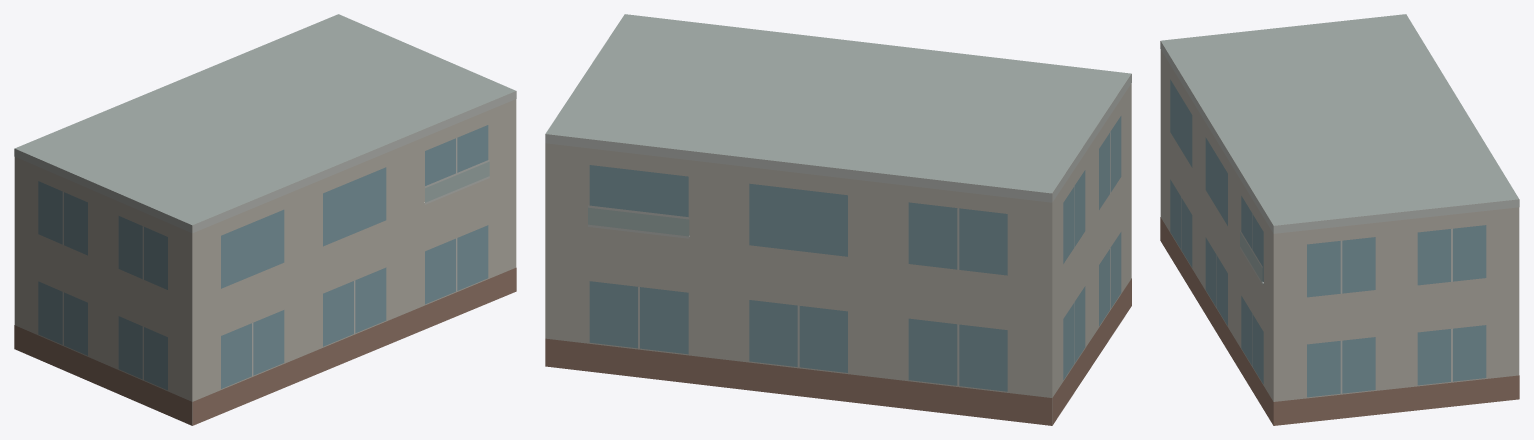
File: survey-upis-32721796.glb
3 views of the same model, side by side, from view 1: azimuth 30°, elevation 25°; view 2: azimuth 150°, elevation 25°; view 3: azimuth 270°, elevation 25° (orthographic). The views are drawn at different scales.
Parts seen in each view (by area): view 1: survey-upis-32721796.tmp; view 2: survey-upis-32721796.tmp; view 3: survey-upis-32721796.tmp.
Boxes of the visible parts, bbox=[...] form: survey-upis-32721796.tmp: bbox=[14, 14, 516, 425]; survey-upis-32721796.tmp: bbox=[545, 14, 1131, 425]; survey-upis-32721796.tmp: bbox=[1160, 14, 1519, 425].
Bounding box in the file's own units: 13.87 × 6.1 × 9.93.
